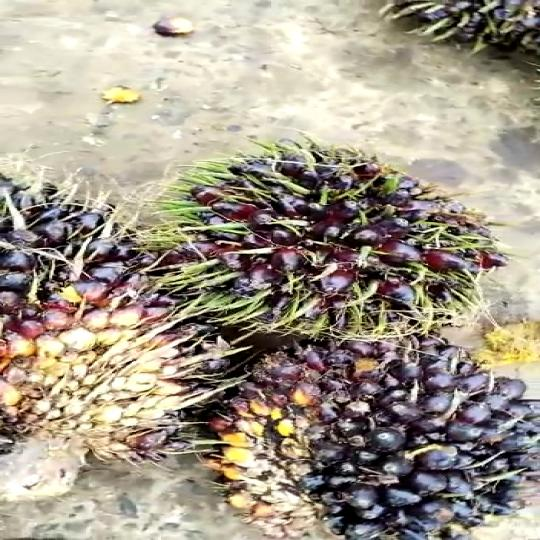mentah: (151, 129, 532, 347), (199, 327, 540, 540), (0, 150, 189, 506)
